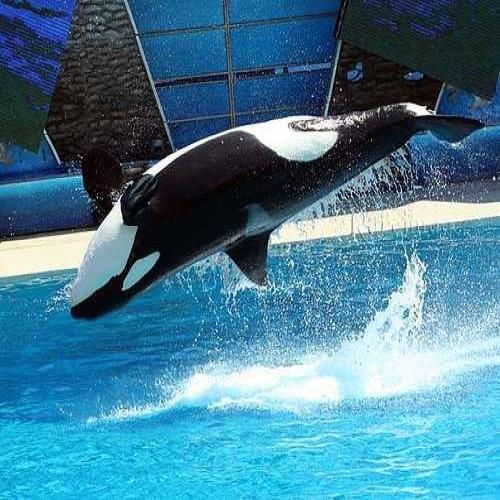killer_whale-endangered: (46, 90, 485, 332)
